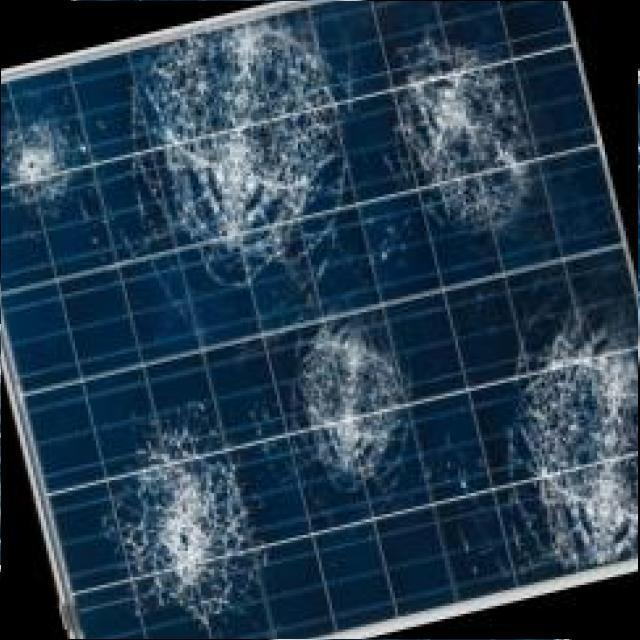Physical-damage: (161, 19, 337, 258), (113, 418, 259, 627), (525, 327, 632, 565), (402, 43, 530, 228), (297, 332, 402, 491), (12, 126, 69, 204)
